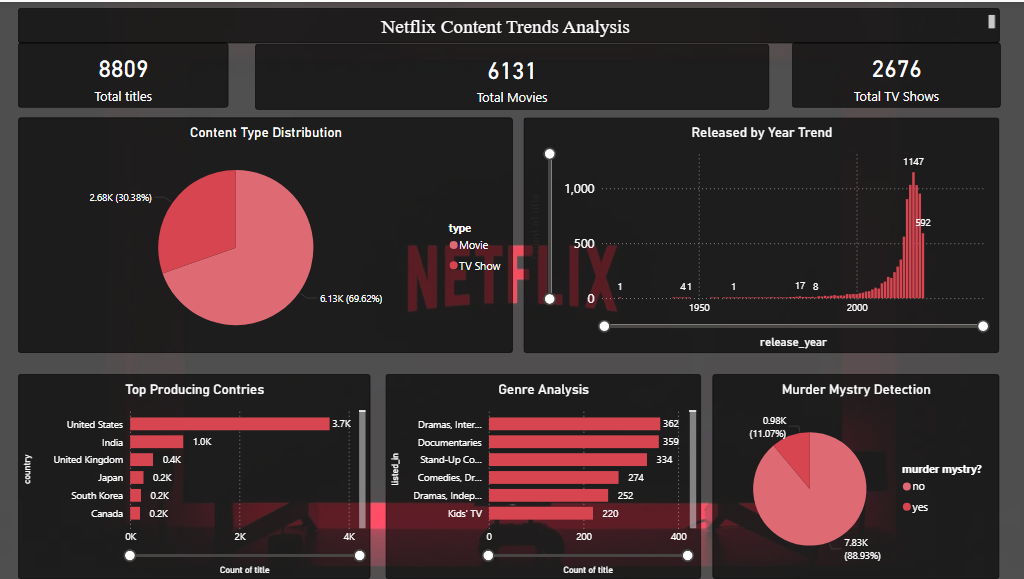

Layout of this report page (visuals, bound fields, positions):
{"tool":"powerbi","page":{"name":"Page 1","canvas":[1280,720],"ordinal":0},"visuals":[{"type":"card","fields":{"Values":["CountNonNull(netflix.title)"]},"box":[22.7,51,262.7,81.3],"z":2},{"type":"card","fields":{"Values":["CountNonNull(netflix.type)"]},"box":[318,52,642,82],"z":3},{"type":"card","fields":{"Values":["CountNonNull(netflix.title)"]},"box":[988.4,51,260.8,81.3],"z":4},{"type":"pieChart","title":"Content Type Distribution ","fields":{"Y":["CountNonNull(netflix.title)"],"Category":["netflix.type"]},"box":[22,144,618,294],"z":5},{"type":"clusteredColumnChart","title":"Released by Year Trend","fields":{"Category":["netflix.release_year"],"Y":["CountNonNull(netflix.title)"]},"box":[654,144,594,294],"z":6},{"type":"barChart","title":"Top Producing Contries","fields":{"Category":["netflix.country"],"Y":["CountNonNull(netflix.title)"]},"box":[22,464,440,256],"z":7},{"type":"barChart","title":"Genre Analysis","fields":{"Category":["netflix.listed_in"],"Y":["CountNonNull(netflix.title)"]},"box":[482,464,394,256],"z":8},{"type":"pieChart","title":"Murder Mystry Detection","fields":{"Category":["netflix.murder mystry?"],"Y":["CountNonNull(netflix.title)"]},"box":[890,464,358,256],"z":9},{"type":"textbox","box":[22,8,1226,44],"z":10}]}

Visuals, with their boxes in screenshot pixels (x1, y1, x2, y2), scaled from the page's 1280x720 canvas onto the 1024x579 screenshot:
card - CountNonNull(netflix.title): (18,41,228,106)
card - CountNonNull(netflix.type): (254,42,768,108)
card - CountNonNull(netflix.title): (791,41,999,106)
"Content Type Distribution " pieChart: (18,116,512,352)
"Released by Year Trend" clusteredColumnChart: (523,116,998,352)
"Top Producing Contries" barChart: (18,373,370,578)
"Genre Analysis" barChart: (386,373,701,578)
"Murder Mystry Detection" pieChart: (712,373,998,578)
textbox: (18,6,998,42)
